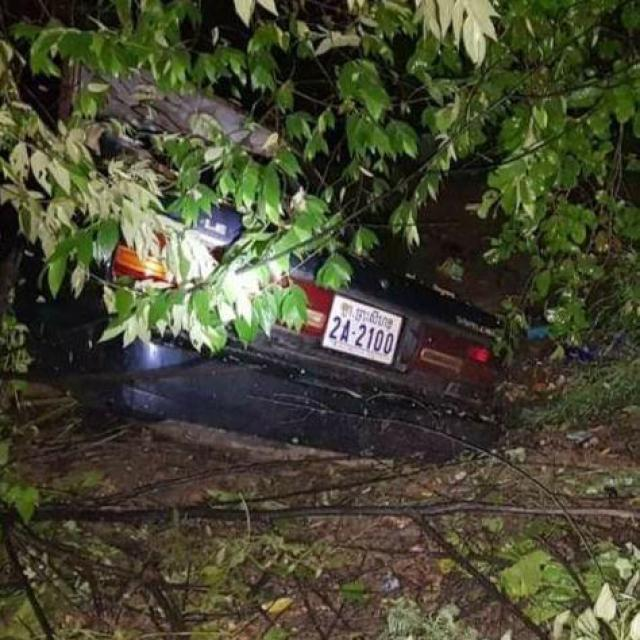Preah_Sihanouk: (342, 300, 394, 328)
